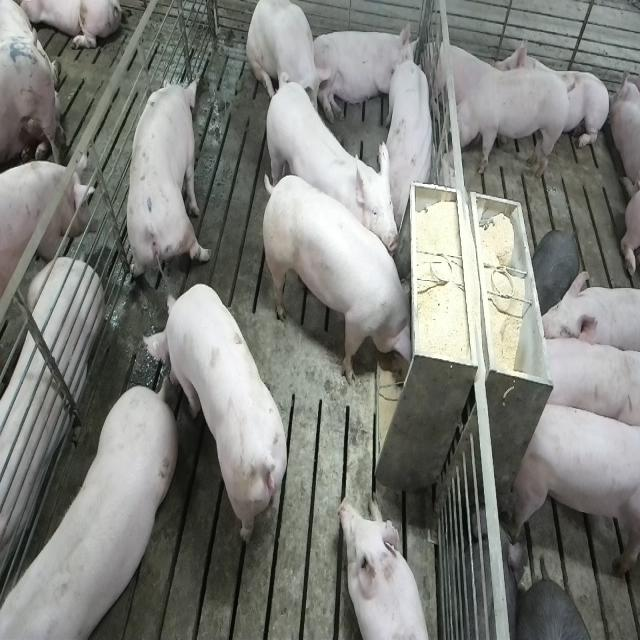Feeding: (266, 171, 421, 392)
Lateral_lying: (0, 158, 101, 592), (312, 22, 419, 128)
Sitting: (246, 1, 328, 131)
Standing: (0, 382, 174, 640), (146, 284, 293, 551), (260, 77, 397, 262), (509, 396, 639, 580), (124, 74, 209, 295), (0, 158, 94, 348), (446, 70, 576, 180), (531, 330, 637, 432), (538, 272, 640, 360)
Sternal_lying: (494, 29, 609, 157), (336, 493, 434, 640), (385, 44, 438, 228), (427, 35, 500, 119)
